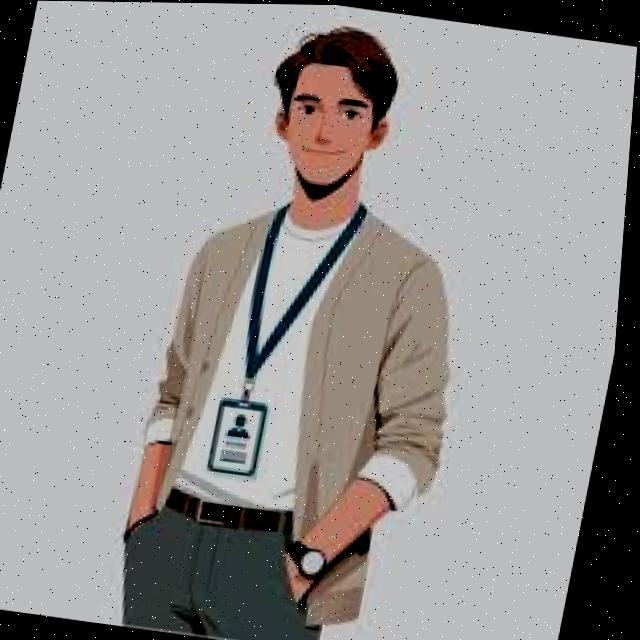id_card: (208, 189, 366, 488)
